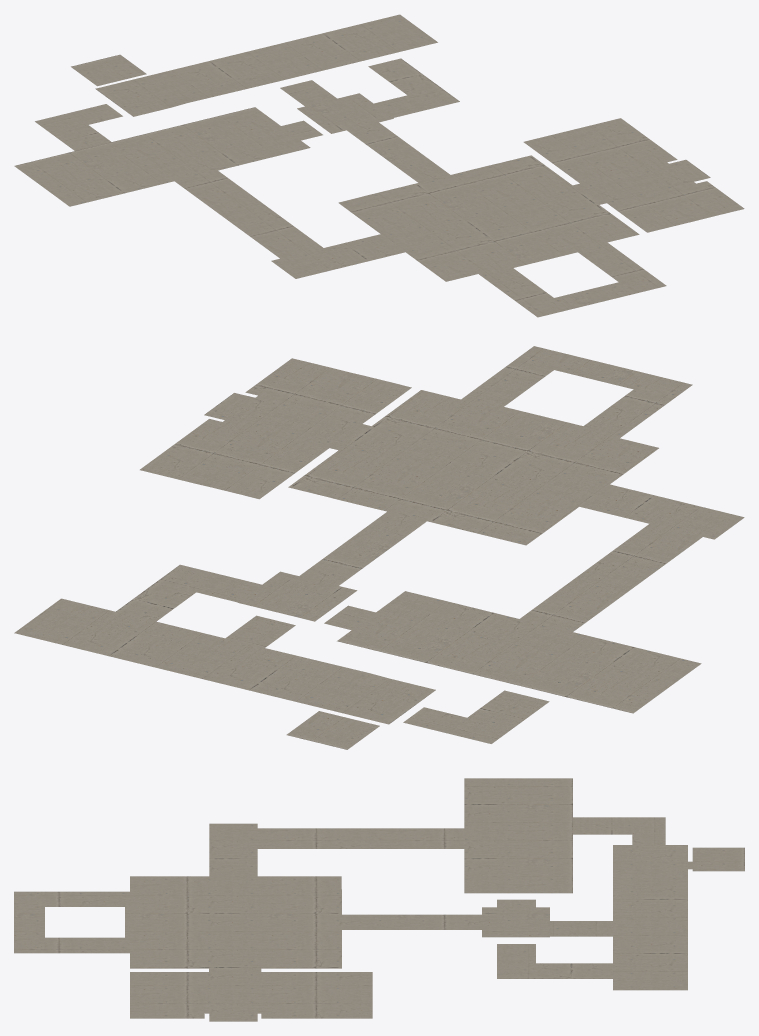
Rendered from ceiling.glb.
3 views of the same model, one above another, from view 1: azimuth 30°, elevation 25°; view 2: azimuth 150°, elevation 25°; view 3: azimuth 270°, elevation 25° (orthographic). The views are drawn at different scales.
Visible parts, largest first — view 1: CeilingBake; view 2: CeilingBake; view 3: CeilingBake.
Part boxes in pixels (x1=…): CeilingBake: x1=14, y1=14, x2=744, y2=317; CeilingBake: x1=14, y1=346, x2=744, y2=749; CeilingBake: x1=14, y1=778, x2=744, y2=1021.
Size of the model in its own units: 45.65 by 0.6238 by 57.92.
1 material, 1 textured.
